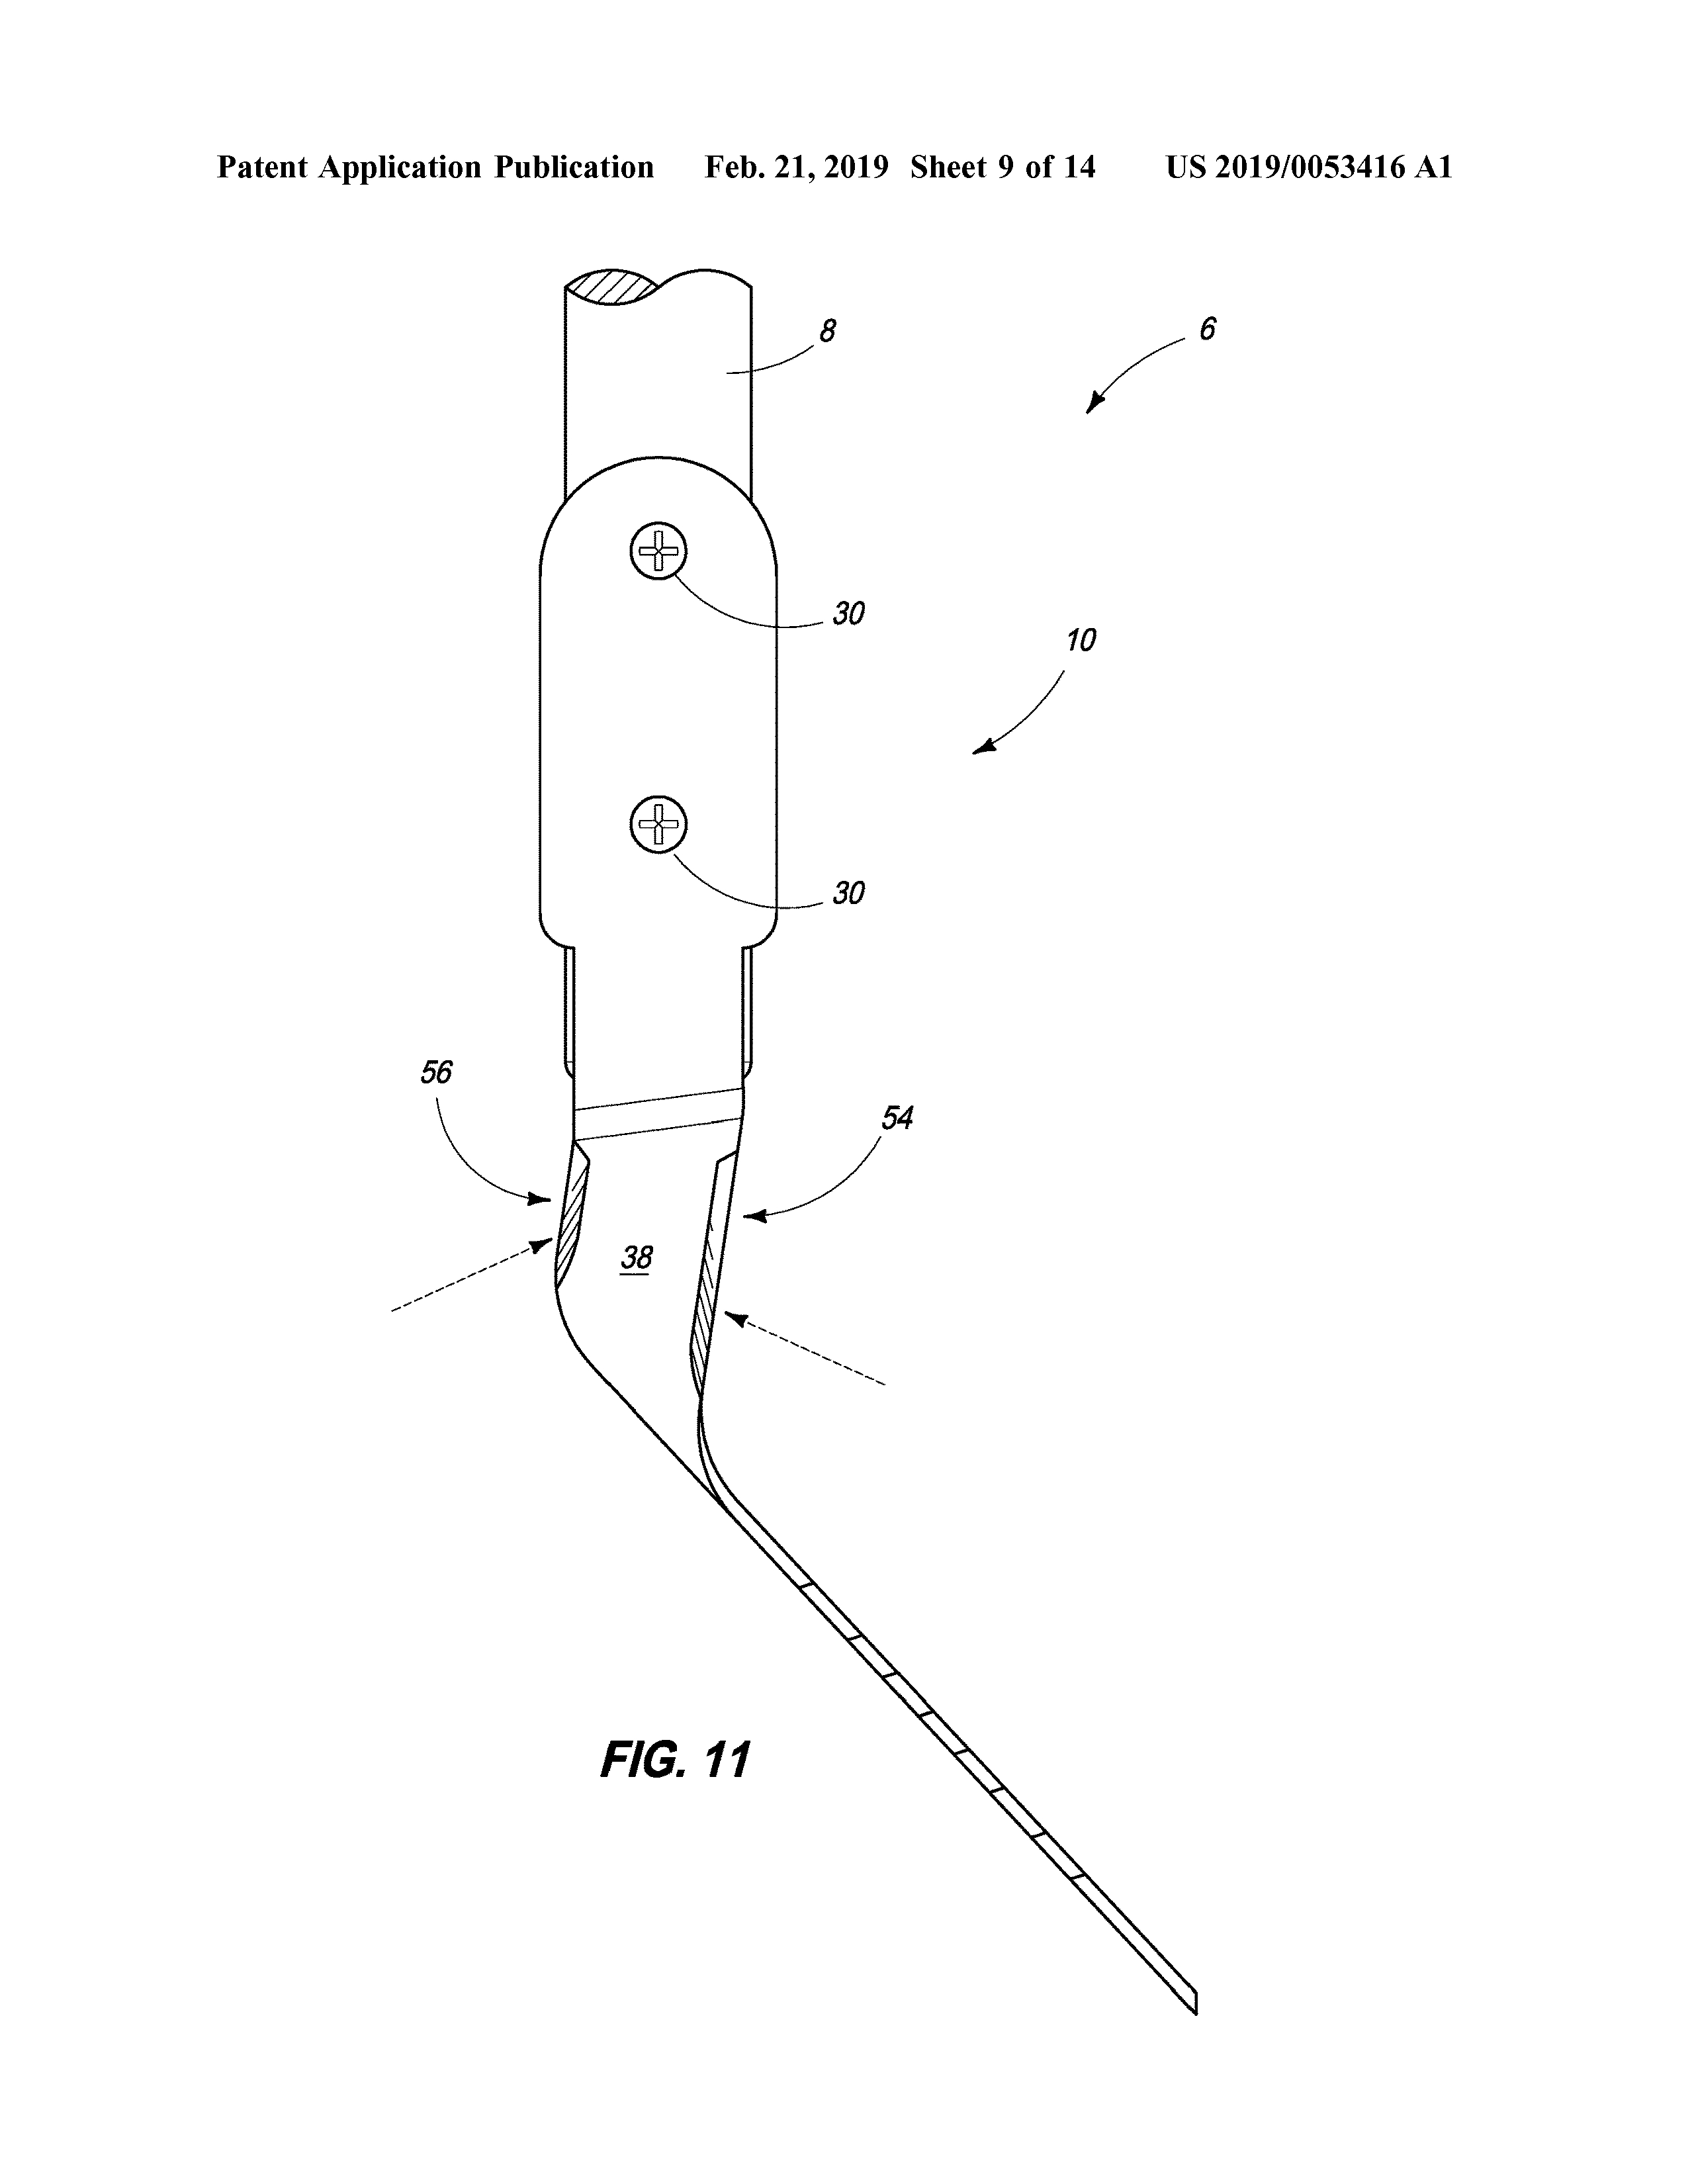10: (1056, 613, 1113, 656)
30: (824, 590, 881, 633), (822, 870, 879, 913)
38: (611, 1236, 668, 1278)
54: (868, 1099, 925, 1140)
56: (413, 1055, 471, 1097)
6: (1180, 307, 1237, 349)
8: (803, 308, 859, 349)
FIG. 11: (565, 1721, 774, 1792)
